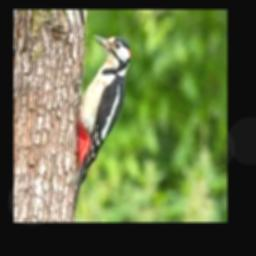Woodpecker: (73, 35, 131, 216)
